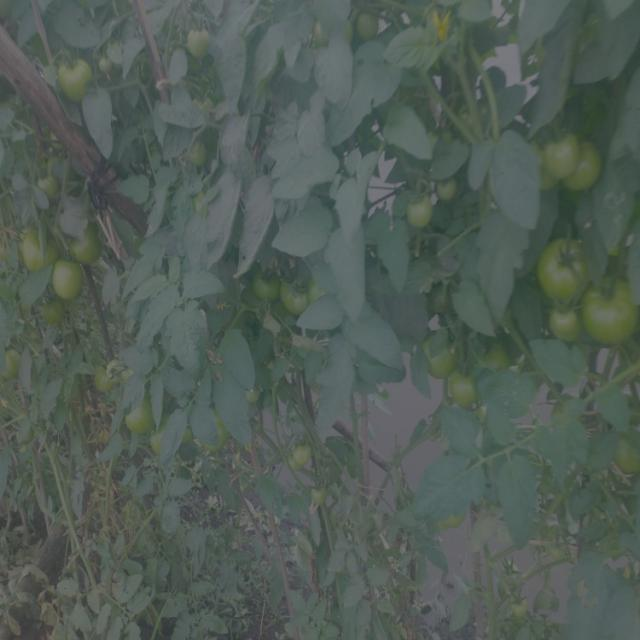tomato: (535, 139, 599, 197), (587, 280, 640, 349), (533, 240, 587, 295), (418, 333, 462, 377), (54, 57, 91, 104), (92, 358, 140, 390), (282, 279, 321, 318), (23, 227, 63, 263), (196, 422, 233, 459), (446, 376, 482, 411), (548, 306, 583, 341), (608, 440, 640, 475), (73, 230, 109, 261), (408, 196, 434, 233), (252, 275, 279, 306), (58, 267, 84, 298), (145, 430, 177, 455), (1, 342, 21, 380), (127, 399, 150, 432), (42, 301, 69, 327), (430, 281, 449, 316), (39, 178, 68, 200), (299, 441, 322, 468), (189, 32, 211, 59), (436, 181, 462, 202), (486, 344, 507, 370), (357, 19, 380, 41), (500, 562, 522, 585), (513, 597, 532, 618), (194, 139, 207, 166), (104, 55, 117, 72)
